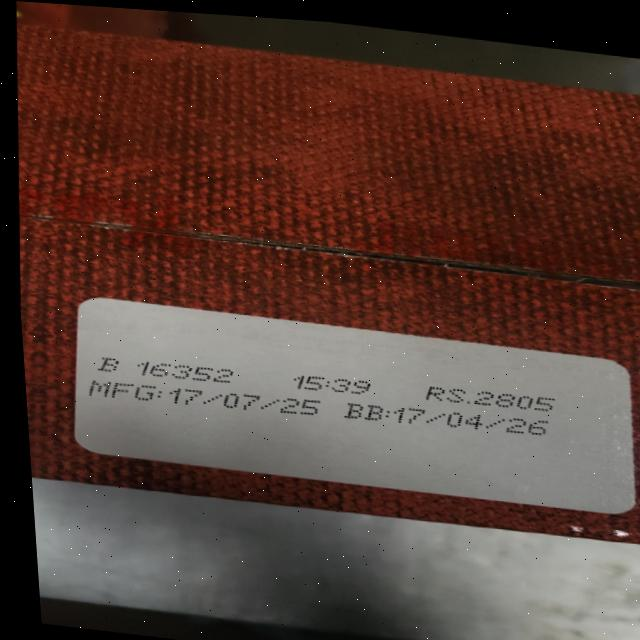BB: (347, 398, 555, 443)
Batch: (92, 354, 240, 388)
MFG: (90, 375, 326, 423)
RS: (422, 383, 562, 416)
TimeStamp: (291, 373, 376, 398)
